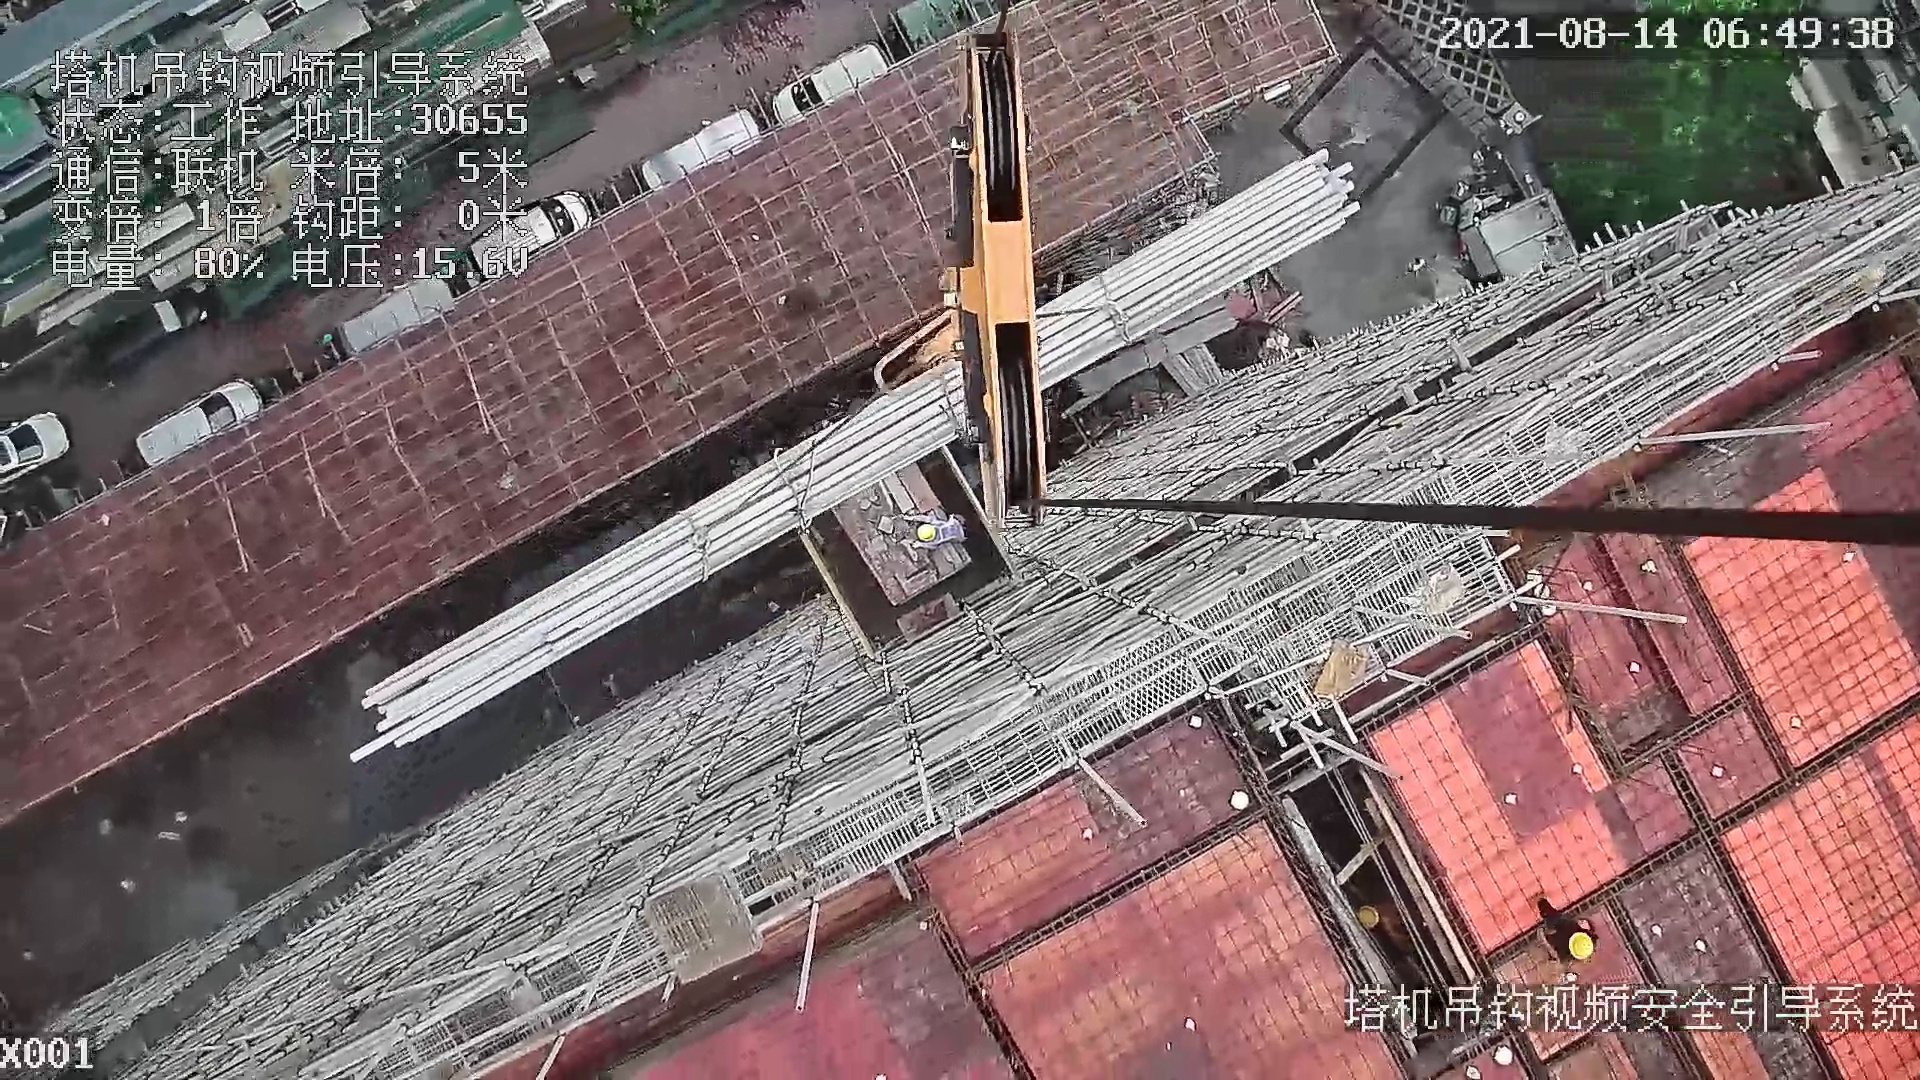helmet: (1348, 903, 1388, 936), (1563, 929, 1593, 962), (913, 521, 940, 549)
person: (1526, 886, 1601, 964), (908, 509, 969, 550)
